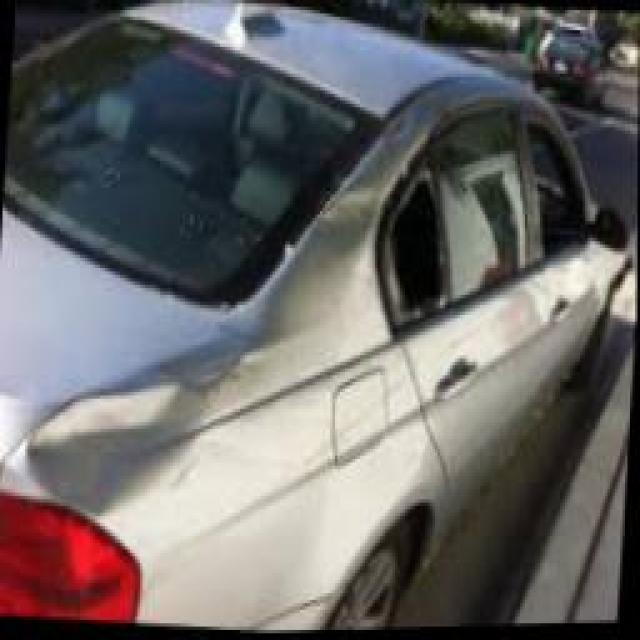Fender: (0, 103, 445, 627)
